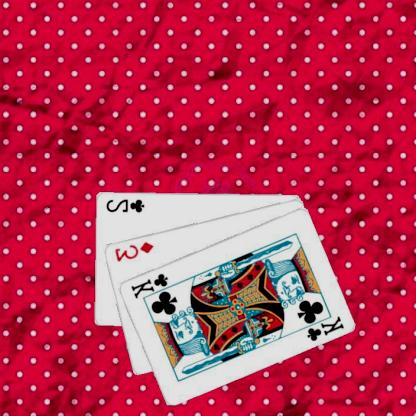2C: (105, 196, 147, 213)
3D: (114, 239, 156, 263)
KC: (129, 270, 178, 300), (298, 312, 346, 342)
